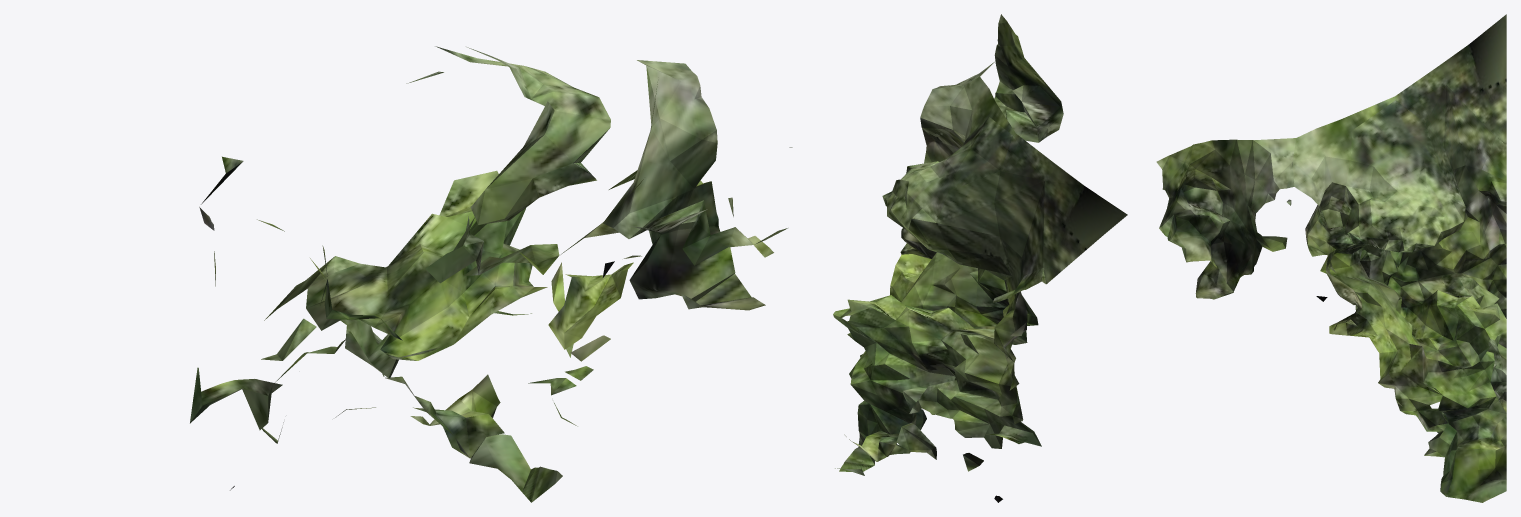
3 renders of one model, left to right at view 1: azimuth 30°, elevation 25°; view 2: azimuth 150°, elevation 25°; view 3: azimuth 270°, elevation 25°, orthographic. The views are drawn at different scales.
Size of the model in its own units: 18.19 by 19.79 by 18.23.
Materials: 2 (2 with a texture image).
